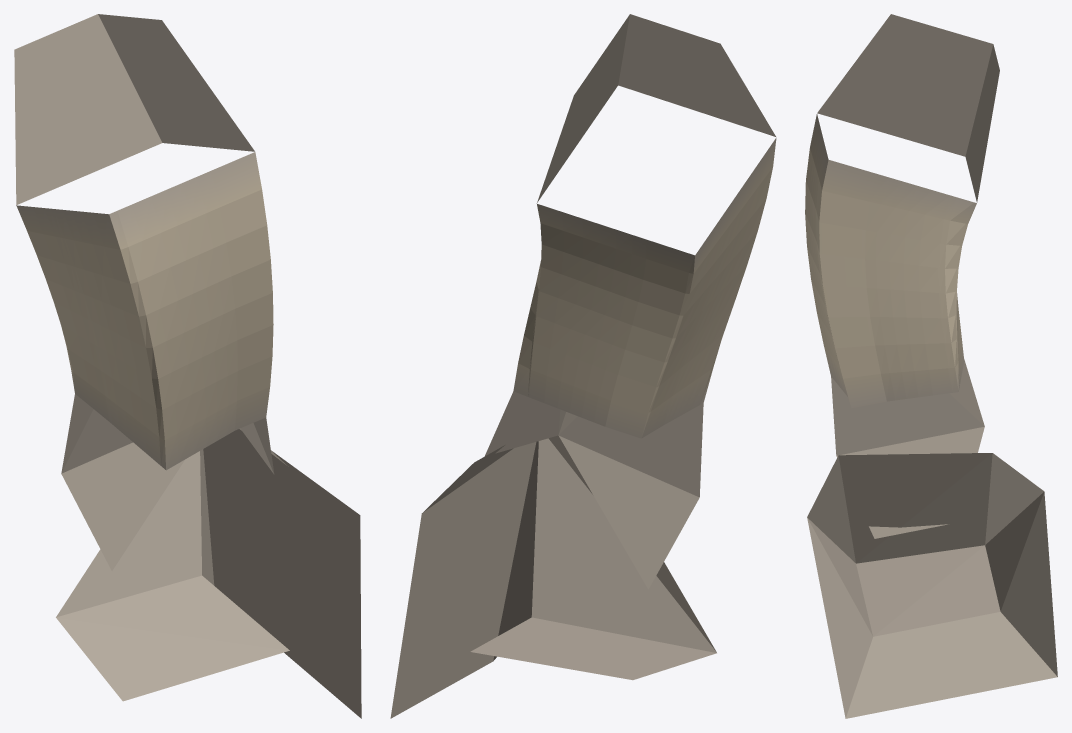
Rendered from field-arm-12-1.glb.
3 views of the same model, side by side, from view 1: azimuth 30°, elevation 25°; view 2: azimuth 150°, elevation 25°; view 3: azimuth 270°, elevation 25° (orthographic). The views are drawn at different scales.
Parts seen in each view (by area): view 1: world; view 2: world; view 3: world.
Boxes of the visible parts, left/top/right/bottom form: world: left=14, top=14, right=361, bottom=718; world: left=390, top=14, right=776, bottom=718; world: left=805, top=14, right=1057, bottom=718.
Size of the model in its own units: 12.42 by 31.03 by 11.68.
